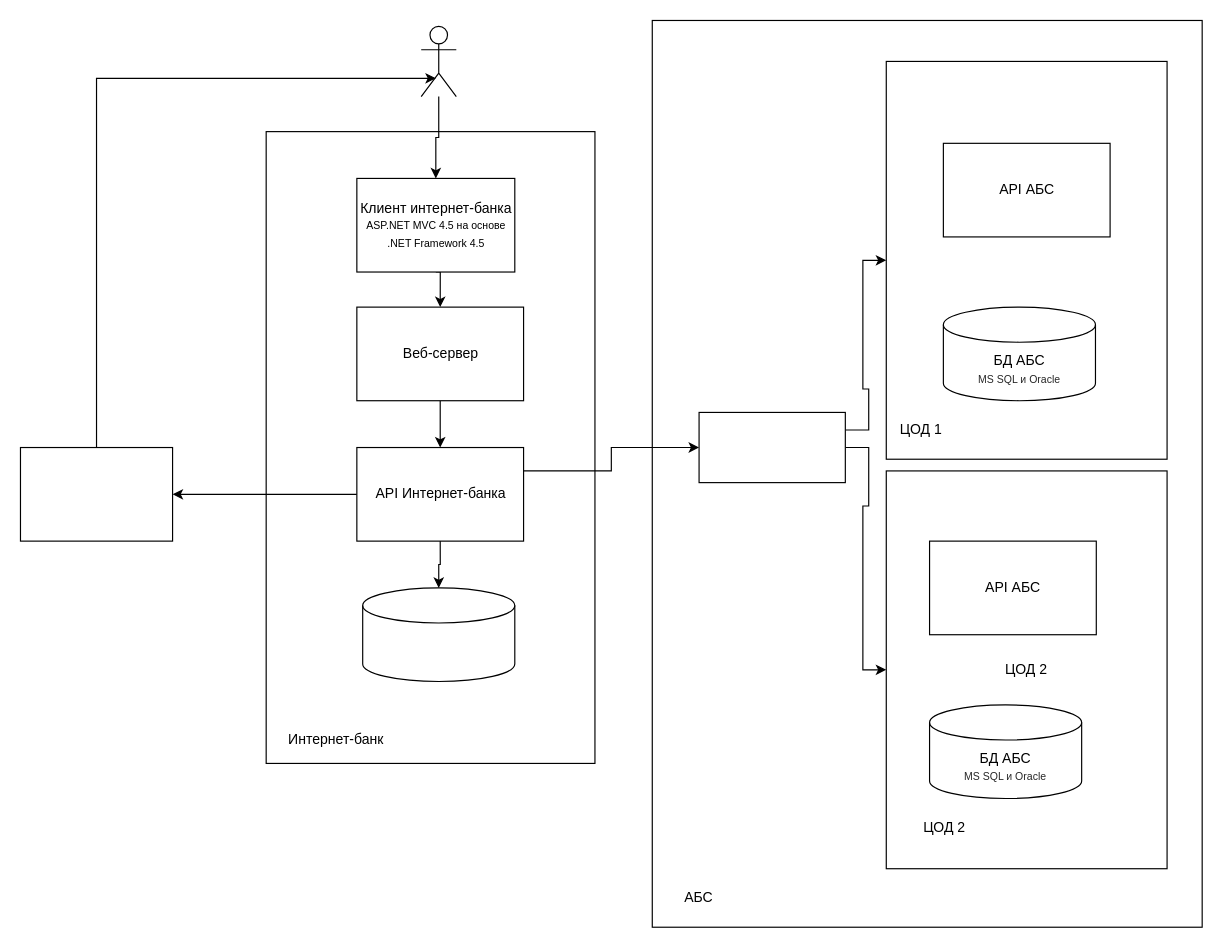
The diagram is 1223 pixels wide and 948 high, and some of its shapes have lost their labels. The shapes that lost their labels are listed below. From the top down, each one's centre as x and y in pixels, then its label:
At (x=438, y=61): "Пользователь".
At (x=771, y=447): "Реверс-прокси nginx".
At (x=96, y=493): "Шлюз телеком-оператора".
At (x=438, y=634): "БД Интернет-банка MS SQL и Oracle".
